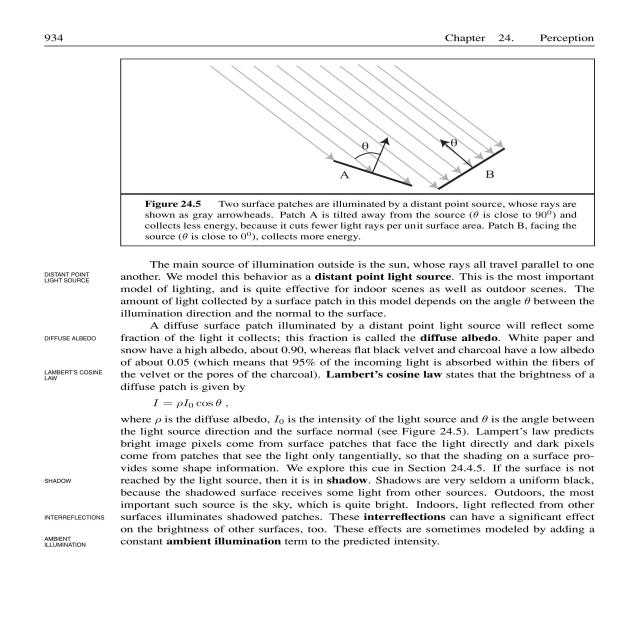diagram: (121, 59, 604, 242)
